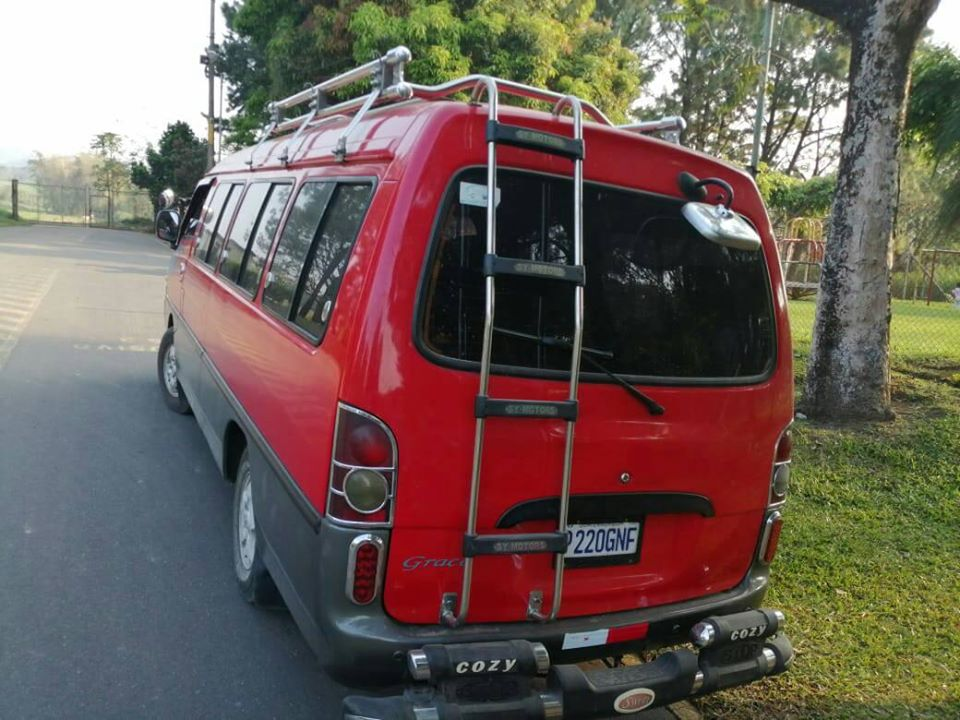bus: (144, 99, 797, 712)
